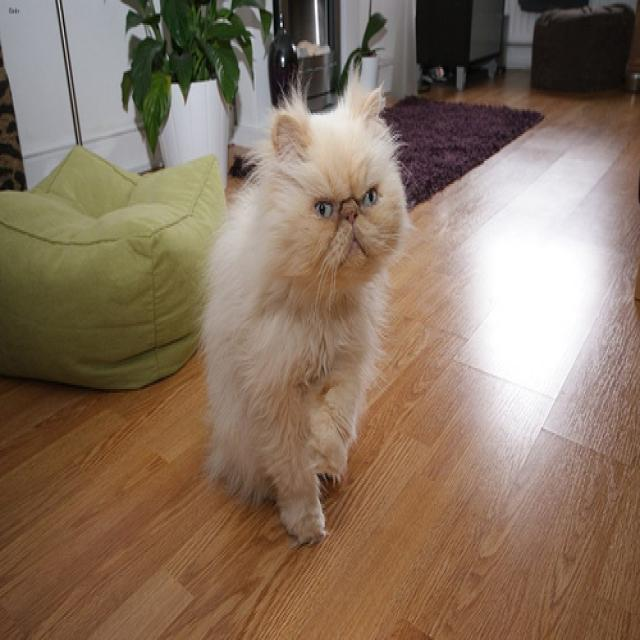cat: (270, 82, 399, 276)
